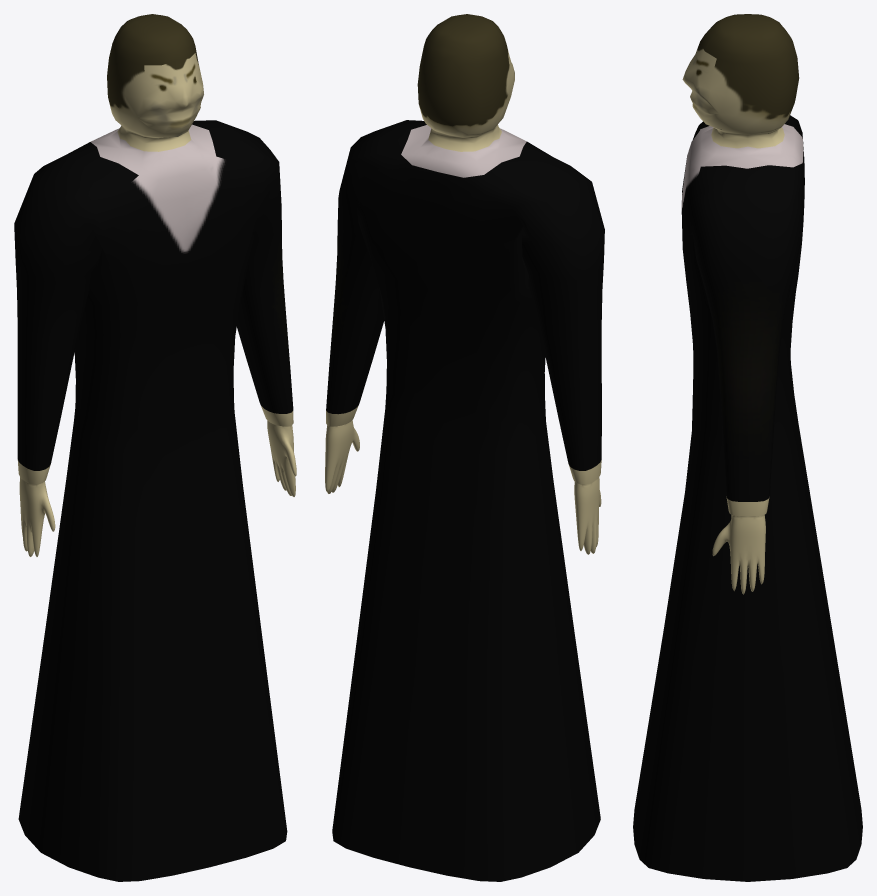
Rendered from ExportedFBXFile.fbx.
3 renders of one model, left to right at view 1: azimuth 30°, elevation 25°; view 2: azimuth 150°, elevation 25°; view 3: azimuth 270°, elevation 25°, orthographic.
Parts seen in each view (by area): view 1: pCube3; view 2: pCube3; view 3: pCube3.
Part boxes in pixels (left/top/right/bottom): pCube3: left=14, top=14, right=296, bottom=881; pCube3: left=325, top=14, right=604, bottom=881; pCube3: left=633, top=14, right=862, bottom=881.
Bounding box in the file's own units: 2.33 × 6.64 × 1.71.
Materials: 1 (1 with a texture image).
